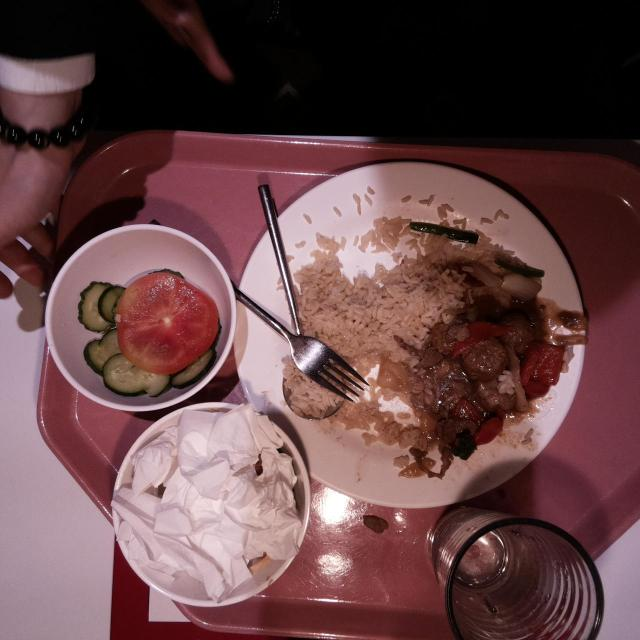Meat: (430, 324, 511, 381), (433, 418, 480, 462)
Rice: (301, 258, 465, 356), (281, 354, 341, 417), (343, 400, 419, 446), (420, 231, 492, 259), (361, 214, 409, 254)
Tomato: (114, 274, 218, 377)
Vegetable: (99, 352, 171, 398), (77, 279, 129, 333), (169, 339, 217, 389), (83, 330, 130, 376), (408, 218, 478, 244)
